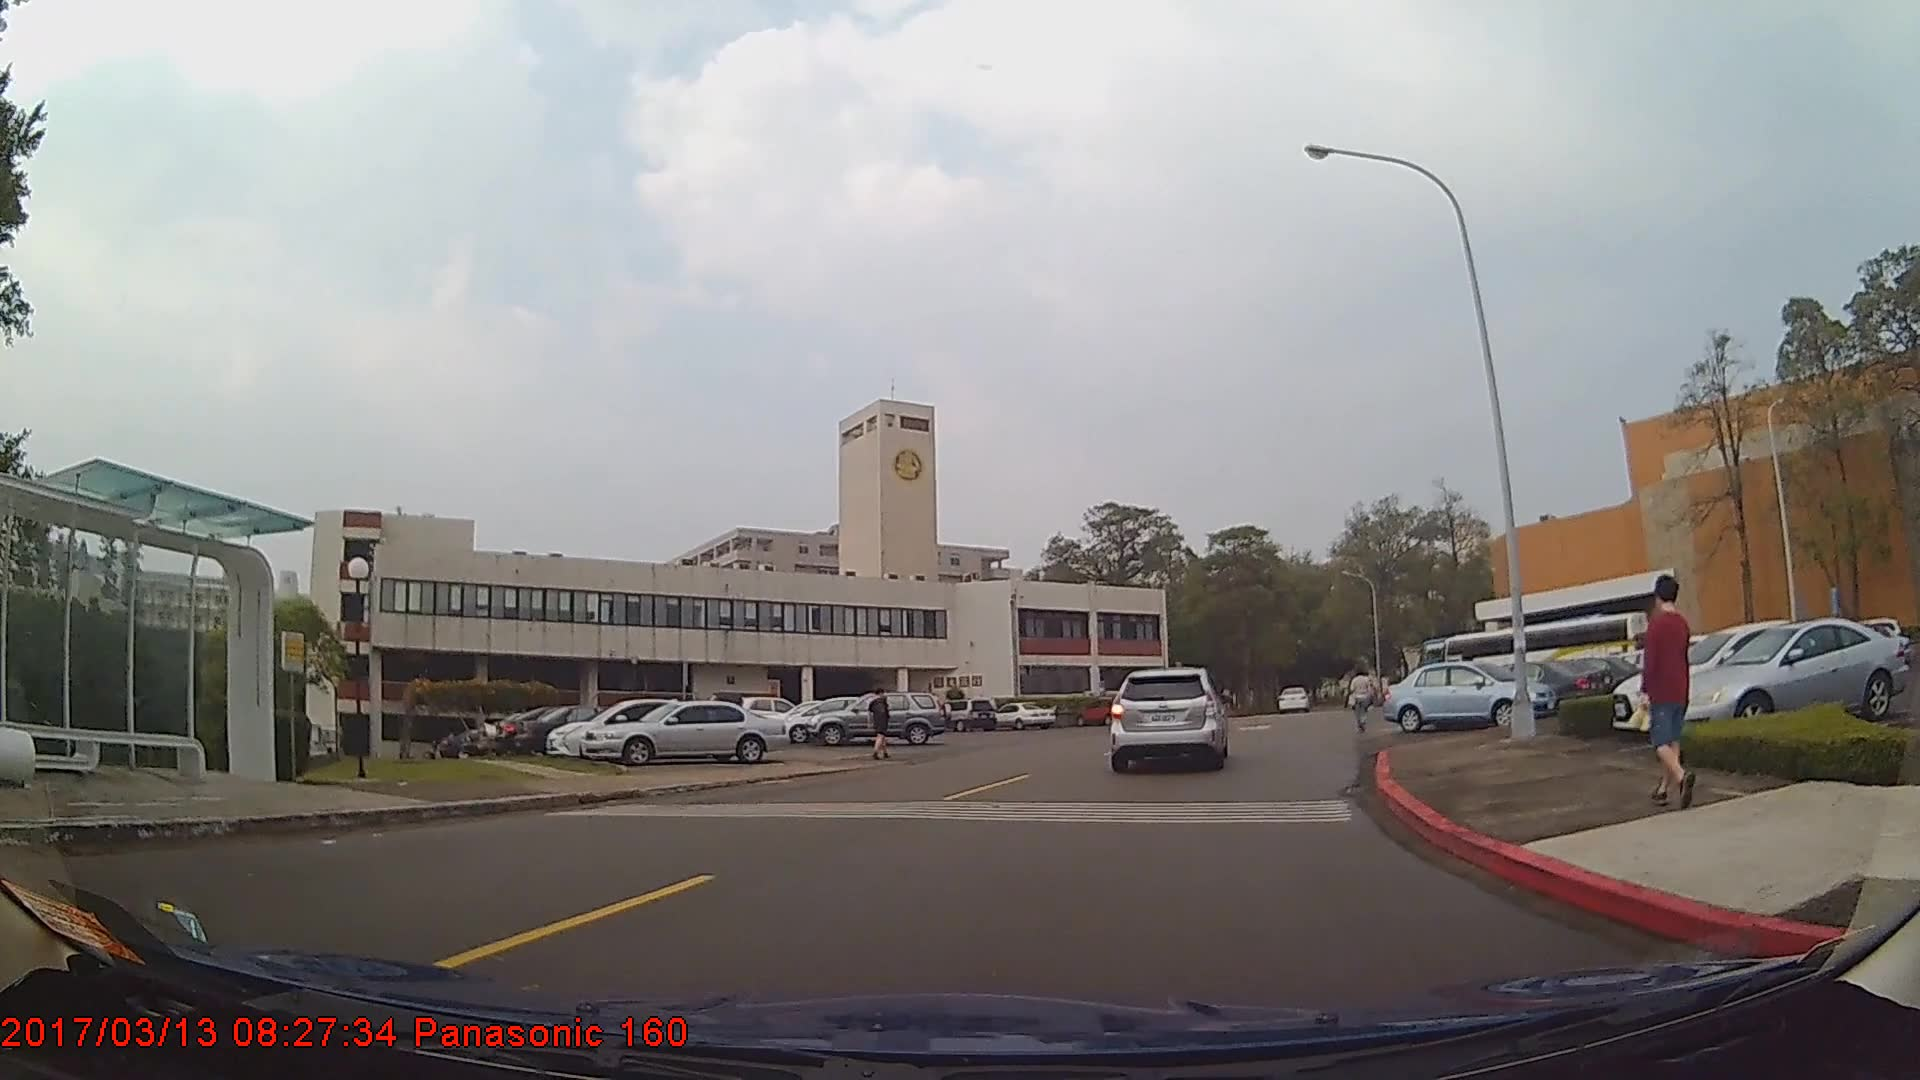pedestrian: (1643, 569, 1698, 799), (868, 684, 893, 757), (1351, 663, 1377, 729)
vehicle: (1607, 616, 1862, 729), (1670, 611, 1907, 728), (578, 696, 786, 762), (539, 696, 745, 758), (1110, 665, 1226, 772), (1378, 659, 1541, 735), (1439, 653, 1609, 708), (512, 702, 661, 755), (805, 688, 945, 741), (932, 694, 997, 729), (988, 698, 1056, 729), (1074, 694, 1133, 727), (1275, 682, 1306, 710)
